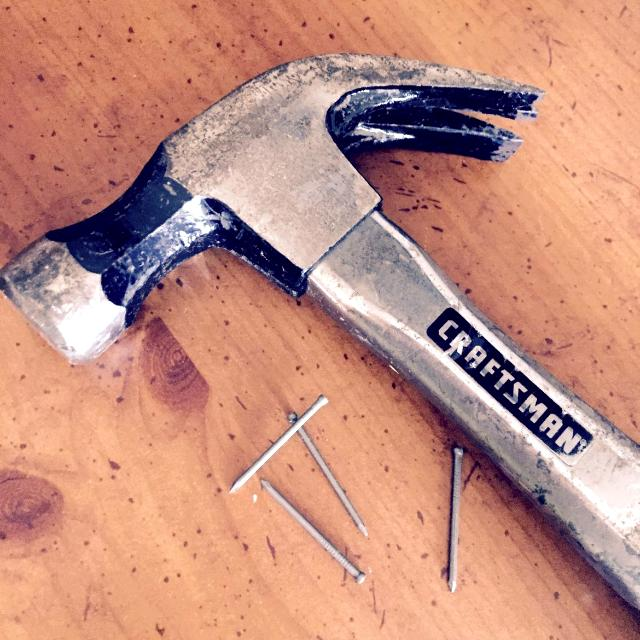hammer: (0, 46, 640, 640)
